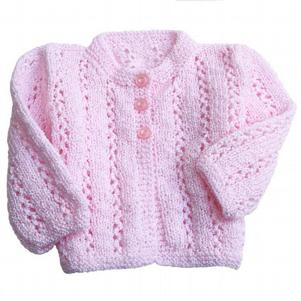C_cardigan sweater: (27, 25, 289, 281)
